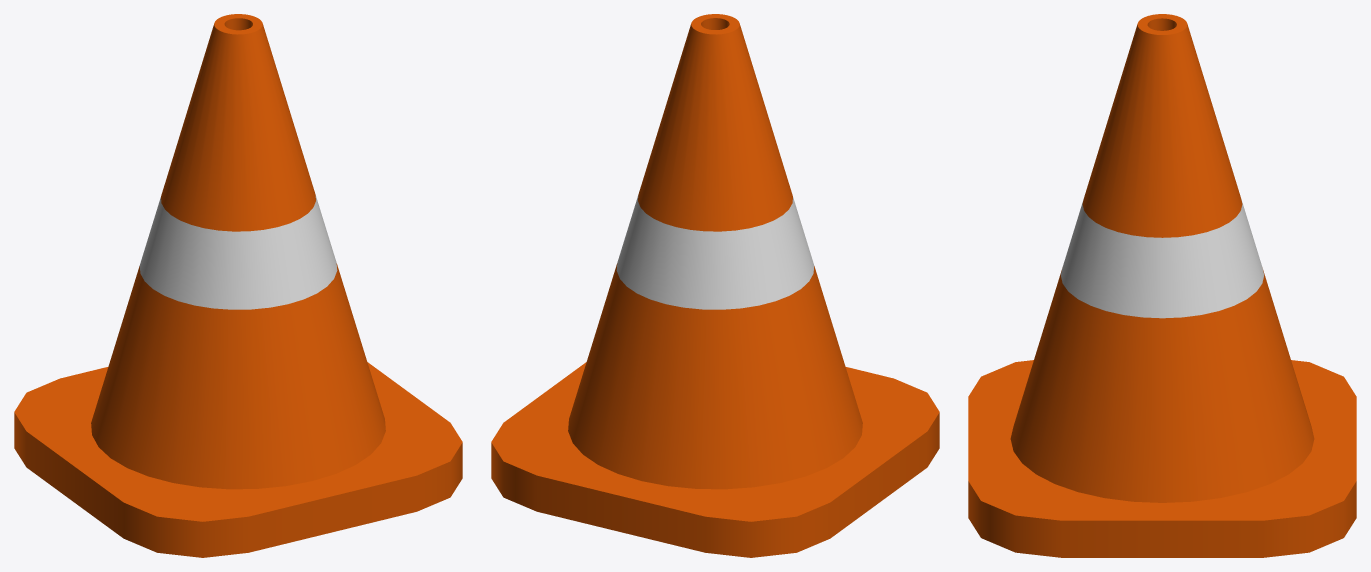
3 views of the same model, side by side, from view 1: azimuth 30°, elevation 25°; view 2: azimuth 150°, elevation 25°; view 3: azimuth 270°, elevation 25° (orthographic). The views are drawn at different scales.
Parts seen in each view (by area): view 1: Circle, Plane; view 2: Circle, Plane; view 3: Circle, Plane.
Part boxes in pixels (x1,y1,x2,y2): Circle: (91, 14, 385, 489); Plane: (14, 362, 462, 557); Circle: (568, 14, 862, 489); Plane: (491, 362, 939, 557); Circle: (1010, 14, 1314, 502); Plane: (968, 360, 1356, 557).
Bounding box in the file's own units: 200 × 257 × 200.
